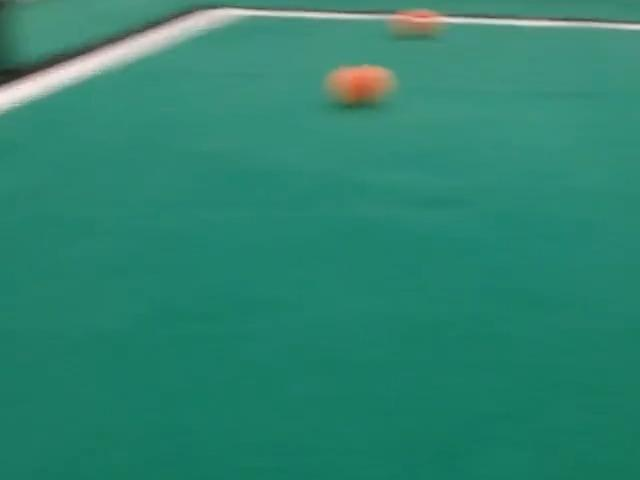Ball: (325, 65, 395, 105), (389, 9, 443, 37)
